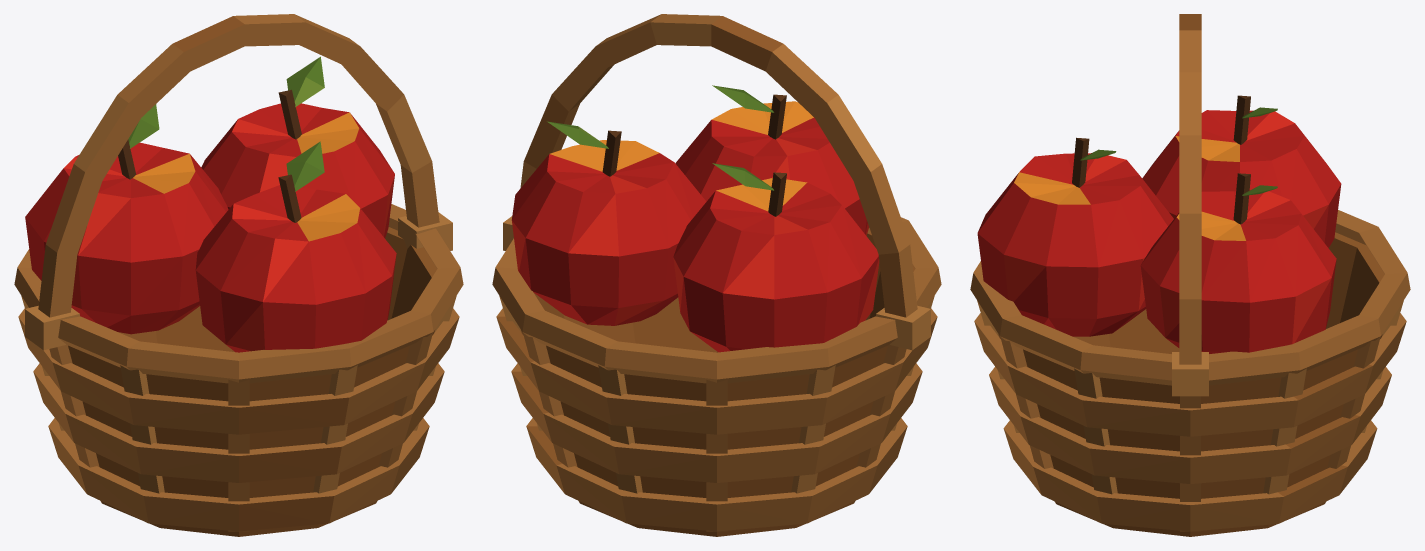
Rendered from Apple Harvest Basket.glb.
The picture shows the model from 3 angles, left to right: view 1: azimuth 30°, elevation 25°; view 2: azimuth 150°, elevation 25°; view 3: azimuth 270°, elevation 25°; orthographic projection. The views are drawn at different scales.
Parts seen in each view (by area): view 1: Apple Harvest Basket; view 2: Apple Harvest Basket; view 3: Apple Harvest Basket.
Part boxes in pixels (box(x1,y1,x2,y2)): Apple Harvest Basket: box(14, 14, 463, 536); Apple Harvest Basket: box(492, 14, 941, 536); Apple Harvest Basket: box(970, 14, 1410, 536).
Bounding box in the file's own units: 0.432 × 0.4536 × 0.4104.
